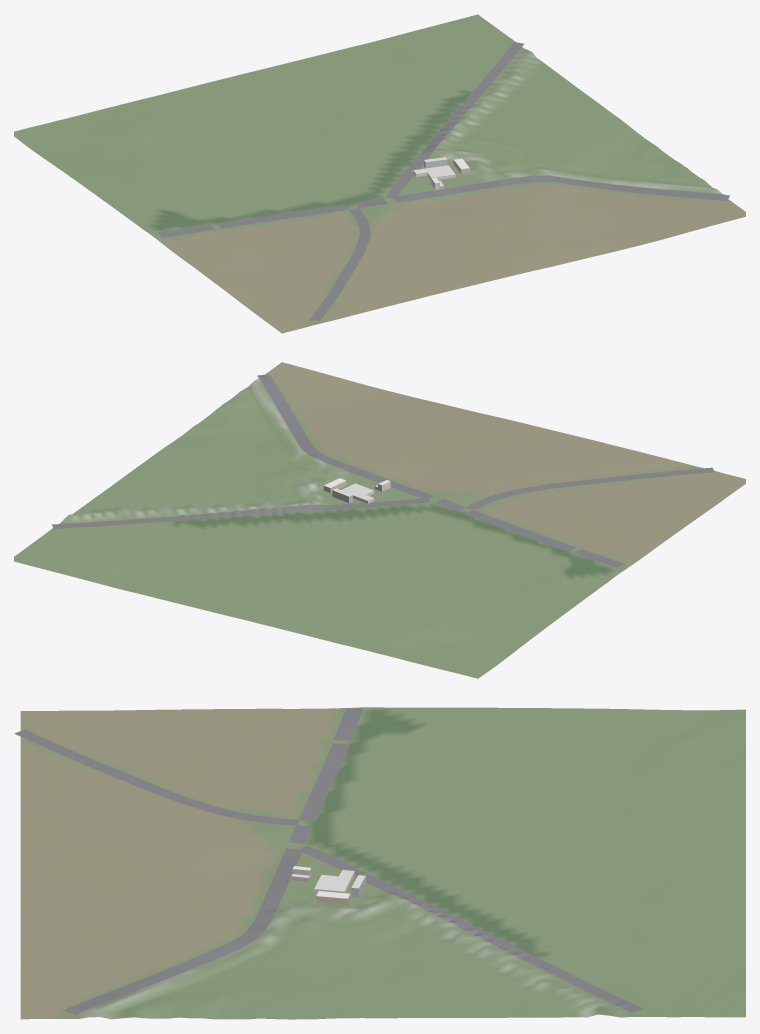
The picture shows the model from 3 angles, top to bottom: view 1: azimuth 30°, elevation 25°; view 2: azimuth 150°, elevation 25°; view 3: azimuth 270°, elevation 25°; orthographic projection. The views are drawn at different scales.
Parts seen in each view (by area): view 1: prim0, prim2, prim1; view 2: prim0, prim2, prim1; view 3: prim0, prim2, prim1.
Part boxes in pixels (x1,y1,x2,y2): prim0: (14, 14, 745, 333); prim2: (158, 42, 729, 320); prim1: (413, 157, 469, 189); prim0: (14, 362, 745, 678); prim2: (52, 374, 714, 567); prim1: (323, 478, 390, 503); prim0: (20, 707, 745, 1019); prim2: (14, 708, 642, 1015); prim1: (291, 866, 365, 905).
Size of the model in its own units: 517 by 15.34 by 517.
